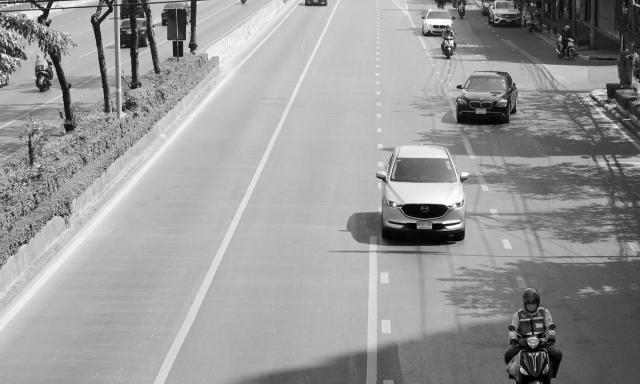carro: (373, 142, 471, 242), (454, 71, 518, 122), (118, 18, 155, 50), (420, 9, 456, 38), (489, 0, 522, 28), (162, 2, 192, 26), (119, 0, 152, 19), (482, 0, 496, 17)
moto: (504, 335, 562, 384), (558, 36, 580, 63), (34, 66, 54, 93), (441, 36, 456, 58), (525, 17, 543, 35), (458, 3, 467, 19)
